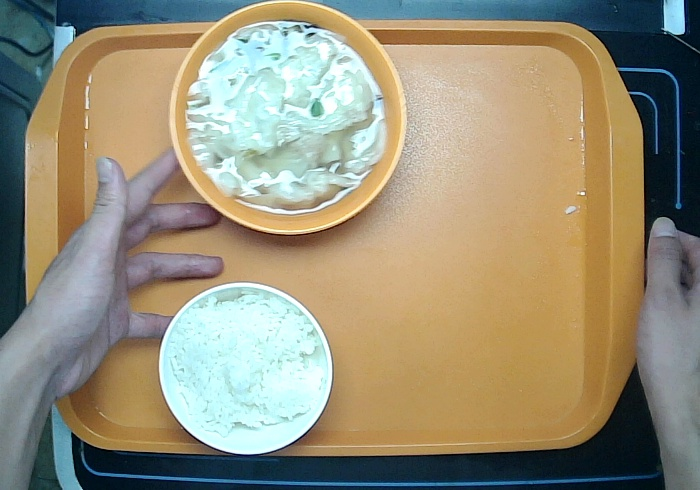NLDX-Fan_Wan: (155, 275, 340, 462)
NLDX-Hun_Tun_Wan: (159, 1, 413, 250)
